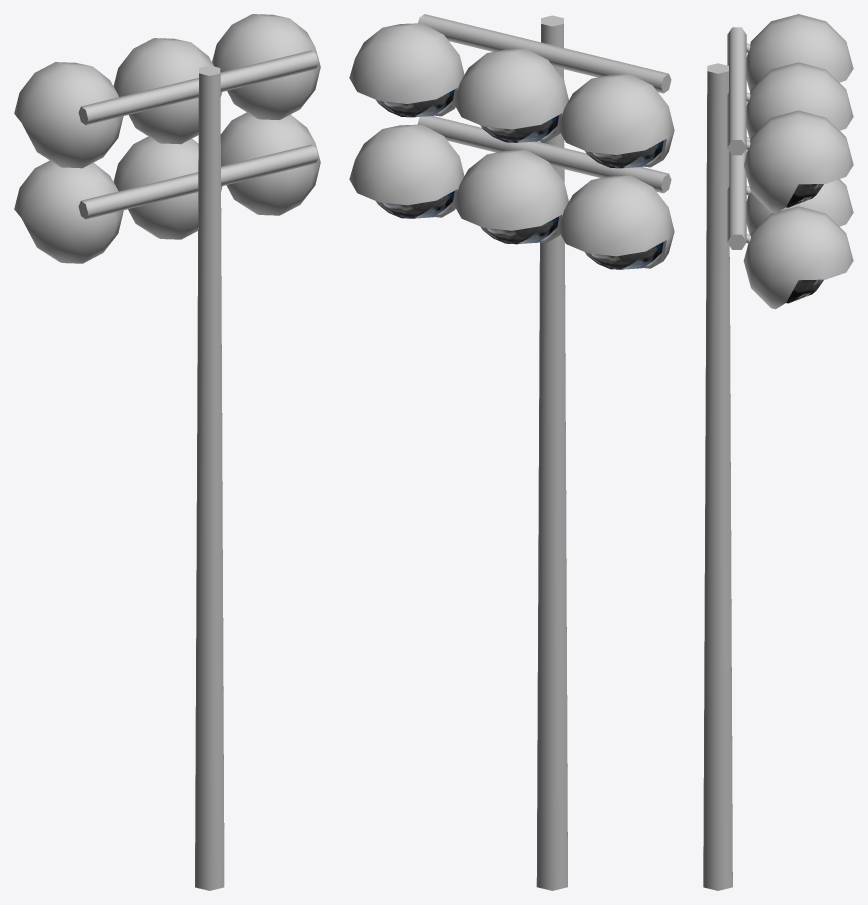
The model's file is Light_01.fbx.
3 renders of one model, left to right at view 1: azimuth 30°, elevation 25°; view 2: azimuth 150°, elevation 25°; view 3: azimuth 270°, elevation 25°, orthographic. The views are drawn at different scales.
Parts seen in each view (by area): view 1: Cylinder002; view 2: Cylinder002; view 3: Cylinder002.
Part boxes in pixels (<box>): Cylinder002: <box>14,14,320,890</box>; Cylinder002: <box>349,14,674,890</box>; Cylinder002: <box>703,14,853,890</box>.
Size of the model in its own units: 247 by 657 by 110.
